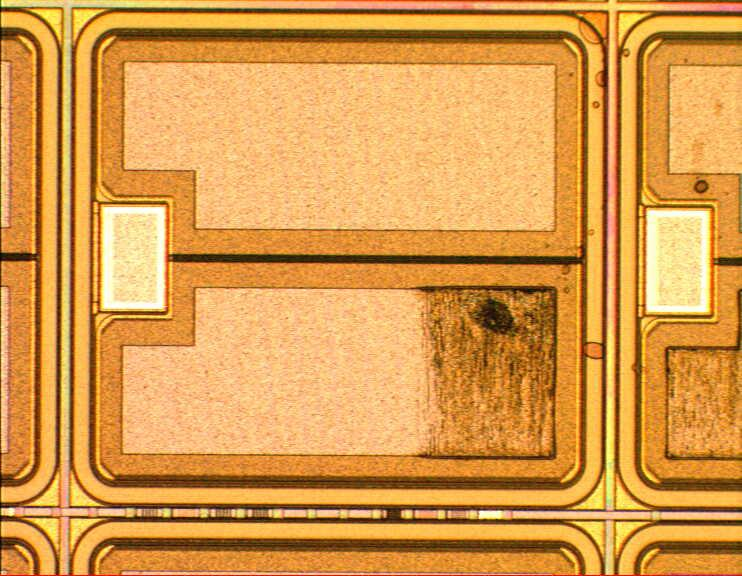SEZ BURNT: (409, 286, 742, 462)
